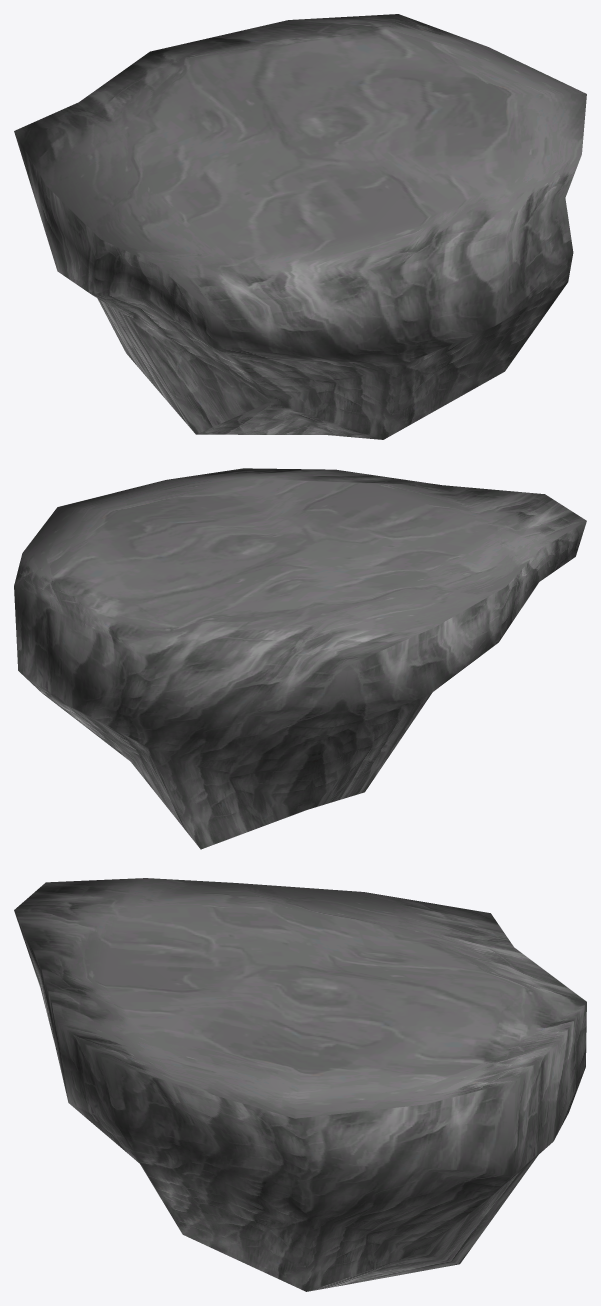
The model's file is INST_SWORDLIGHT_ROCKPLATA.obj.
3 views of the same model, one above another, from view 1: azimuth 30°, elevation 25°; view 2: azimuth 150°, elevation 25°; view 3: azimuth 270°, elevation 25° (orthographic). The views are drawn at different scales.
Visible parts, largest first — view 1: ckPlatA_Lod1_01; view 2: ckPlatA_Lod1_01; view 3: ckPlatA_Lod1_01.
Part boxes in pixels (box(x1,y1,x2,y2)): ckPlatA_Lod1_01: box(14, 14, 586, 439); ckPlatA_Lod1_01: box(14, 468, 586, 849); ckPlatA_Lod1_01: box(14, 878, 586, 1291).
Bounding box in the file's own units: 117 × 69.12 × 122.
